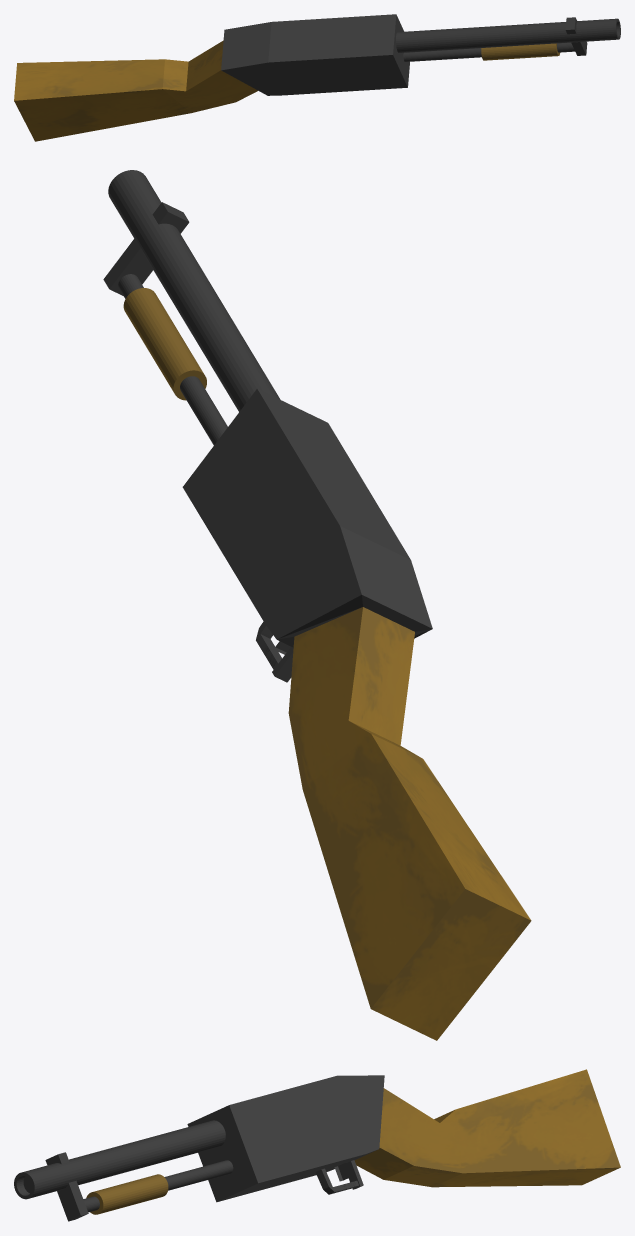
Rendered from Title_BigShotGun.obj.
3 renders of one model, top to bottom at view 1: azimuth 30°, elevation 25°; view 2: azimuth 150°, elevation 25°; view 3: azimuth 270°, elevation 25°, orthographic. The views are drawn at different scales.
Parts seen in each view (by area): view 1: 立方体; view 2: 立方体; view 3: 立方体.
Boxes of the visible parts, box(x1,y1,x2,y2) form: 立方体: box(14, 14, 620, 141); 立方体: box(103, 170, 531, 1040); 立方体: box(14, 1069, 620, 1221).
Size of the model in its own units: 4.44 by 1.96 by 4.38.
